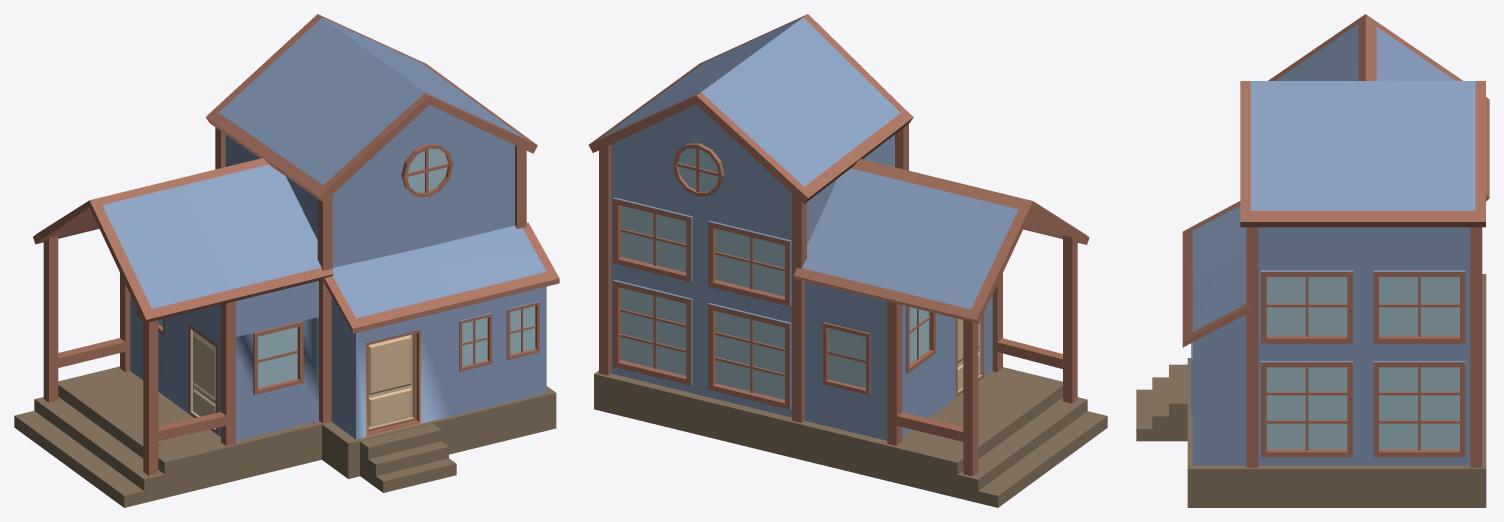
File: suburban-house-A.fbx
3 views of the same model, side by side, from view 1: azimuth 30°, elevation 25°; view 2: azimuth 150°, elevation 25°; view 3: azimuth 270°, elevation 25° (orthographic). The views are drawn at different scales.
Visible parts, largest first — view 1: suburban-house-A; view 2: suburban-house-A; view 3: suburban-house-A.
Part boxes in pixels (bbox=[...]): suburban-house-A: bbox=[14, 14, 559, 507]; suburban-house-A: bbox=[588, 14, 1107, 507]; suburban-house-A: bbox=[1136, 14, 1489, 507].
Bounding box in the file's own units: 1135 × 896 × 772.
1 material, 1 textured.
